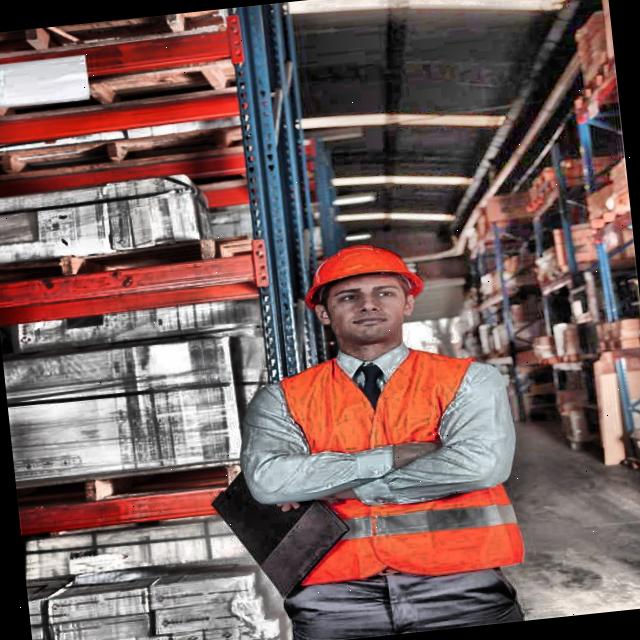helmet: (284, 222, 448, 363)
